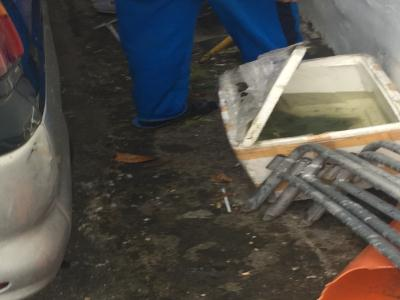styrofoam: (219, 50, 399, 198)
